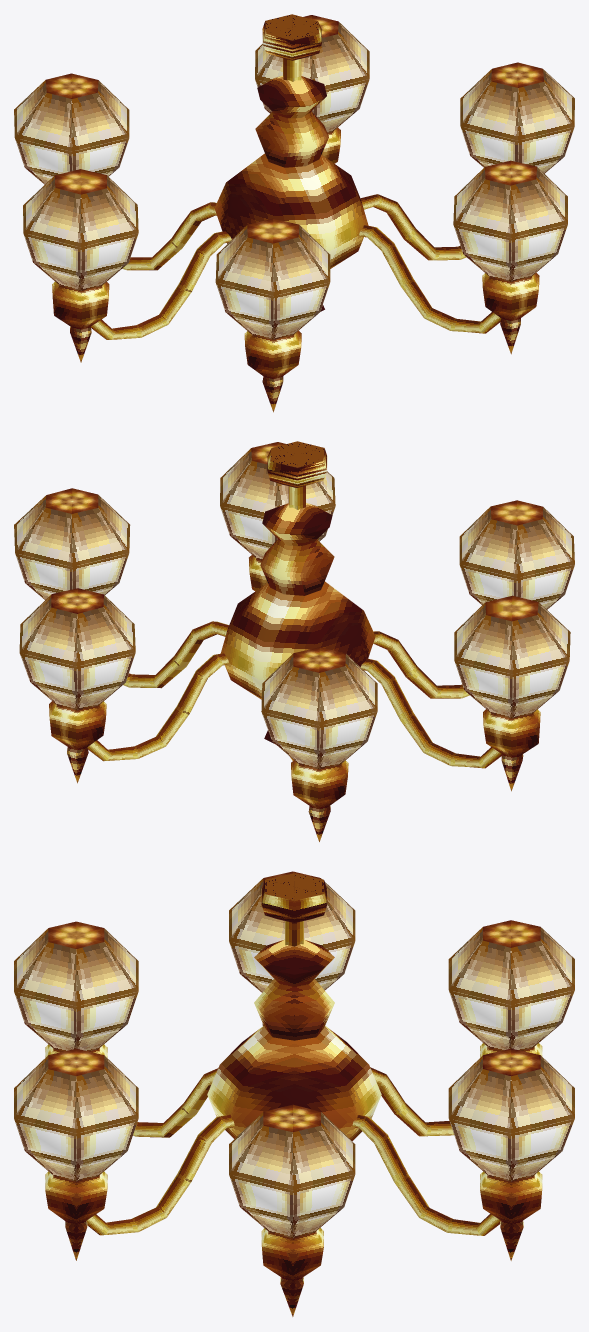
The model's file is syan.glb.
The picture shows the model from 3 angles, top to bottom: view 1: azimuth 30°, elevation 25°; view 2: azimuth 150°, elevation 25°; view 3: azimuth 270°, elevation 25°; orthographic projection. The views are drawn at different scales.
Visible parts, largest first — view 1: syan; view 2: syan; view 3: syan.
Part boxes in pixels (box(x1,y1,x2,y2)): syan: box(14, 14, 574, 412); syan: box(14, 441, 574, 841); syan: box(14, 871, 574, 1316).
Bounding box in the file's own units: 448 × 241 × 360.
Materials: 5 (5 with a texture image).
